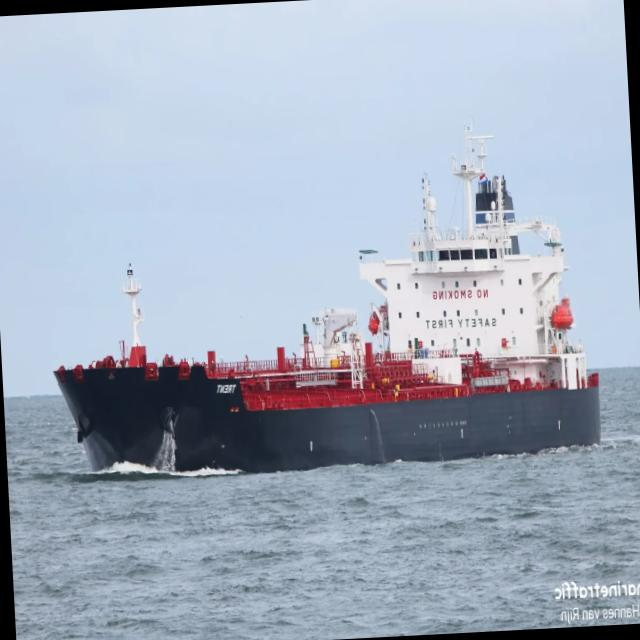Tanker: (54, 123, 601, 472)
